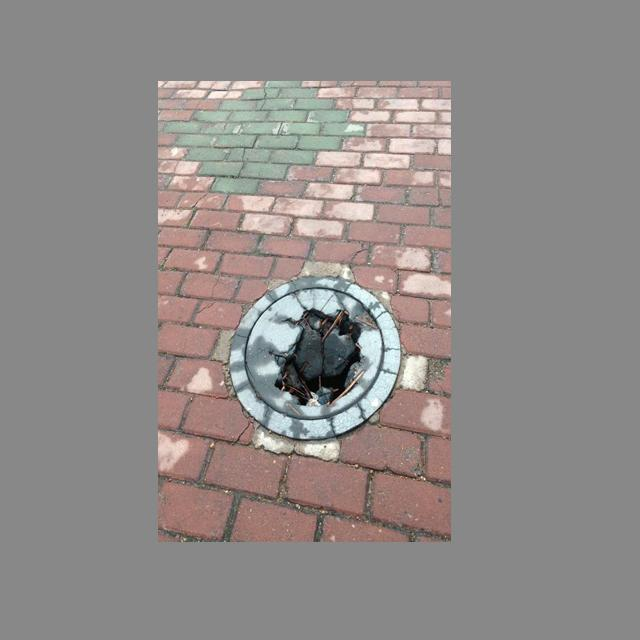broke: (222, 266, 413, 441)
